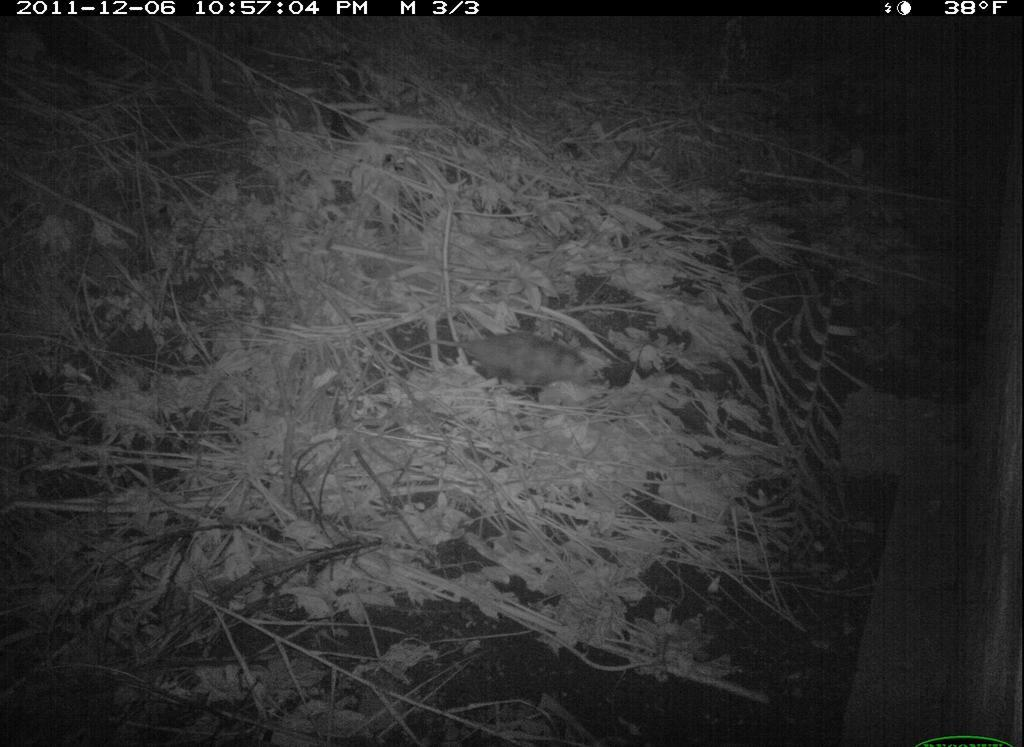opossum: (410, 326, 635, 404)
